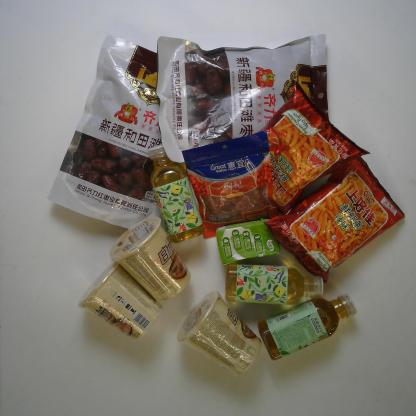Dried Food: (45, 32, 212, 250), (154, 29, 330, 168)
Dried Fruit: (180, 130, 284, 242)
Drink: (256, 290, 360, 362), (146, 141, 206, 247), (223, 263, 326, 309)
Instant Noodles: (108, 213, 193, 308), (175, 288, 263, 379), (76, 257, 164, 343)
Milk: (213, 217, 282, 266)
Puffed Food: (234, 80, 372, 222), (263, 153, 407, 285)
